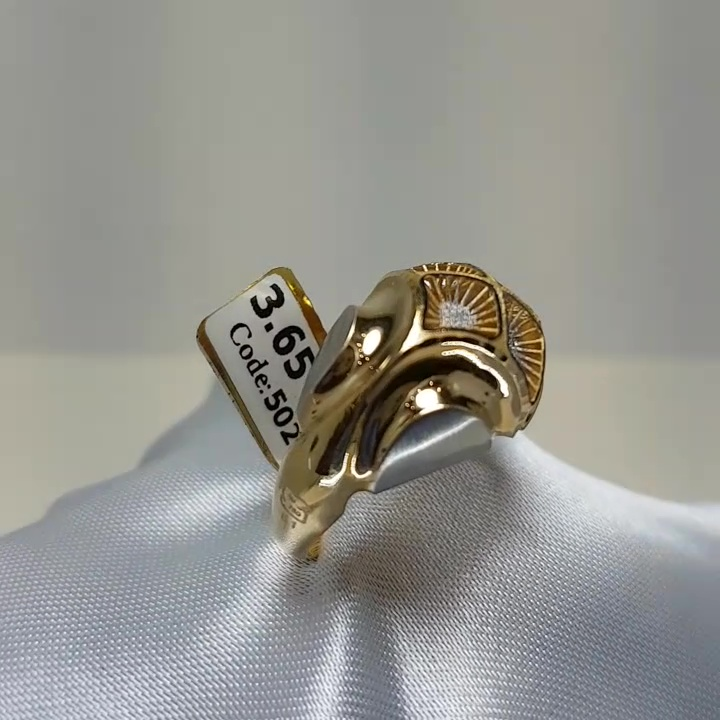Ring 2: (212, 212, 605, 584)
